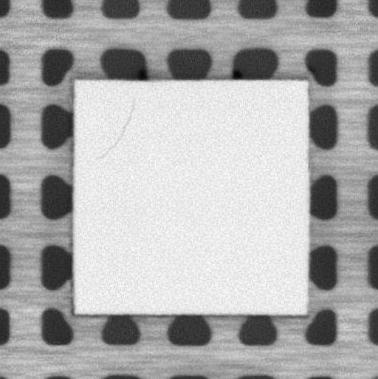DIE_CRACK: (95, 100, 136, 159)
